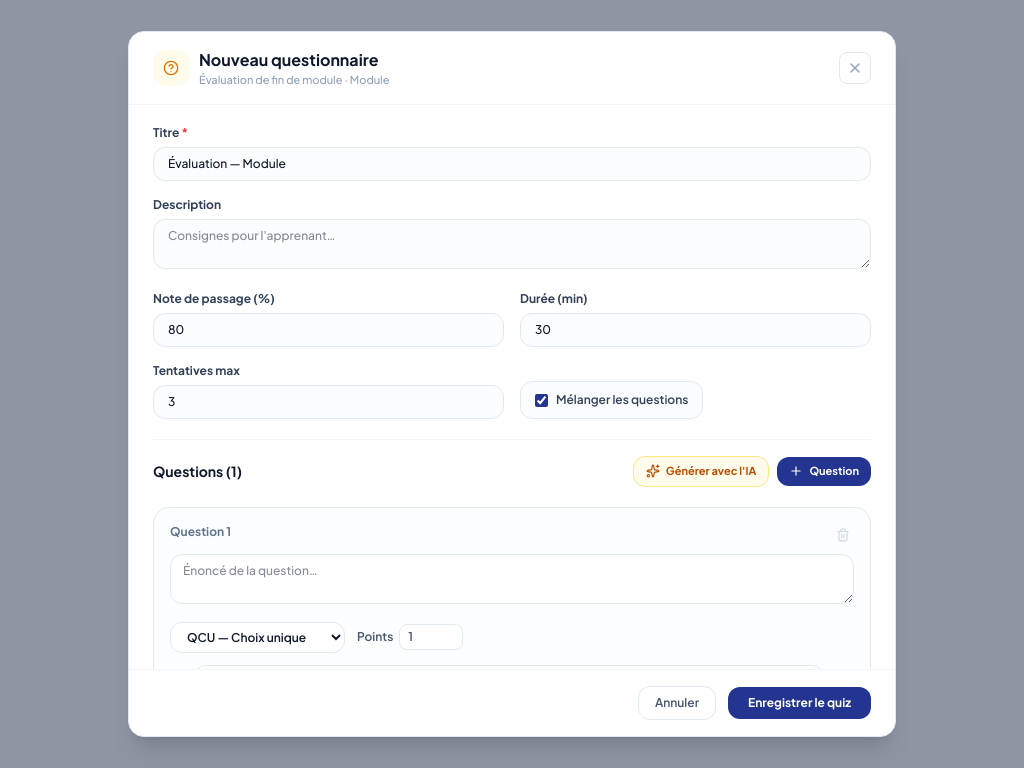
Test: QuizEditor › ajoute une question et une option
The image size is (1024, 768).
Step 1. Click the button "Question" → (824, 471), box [777,457,871,486]
(page scrolled)
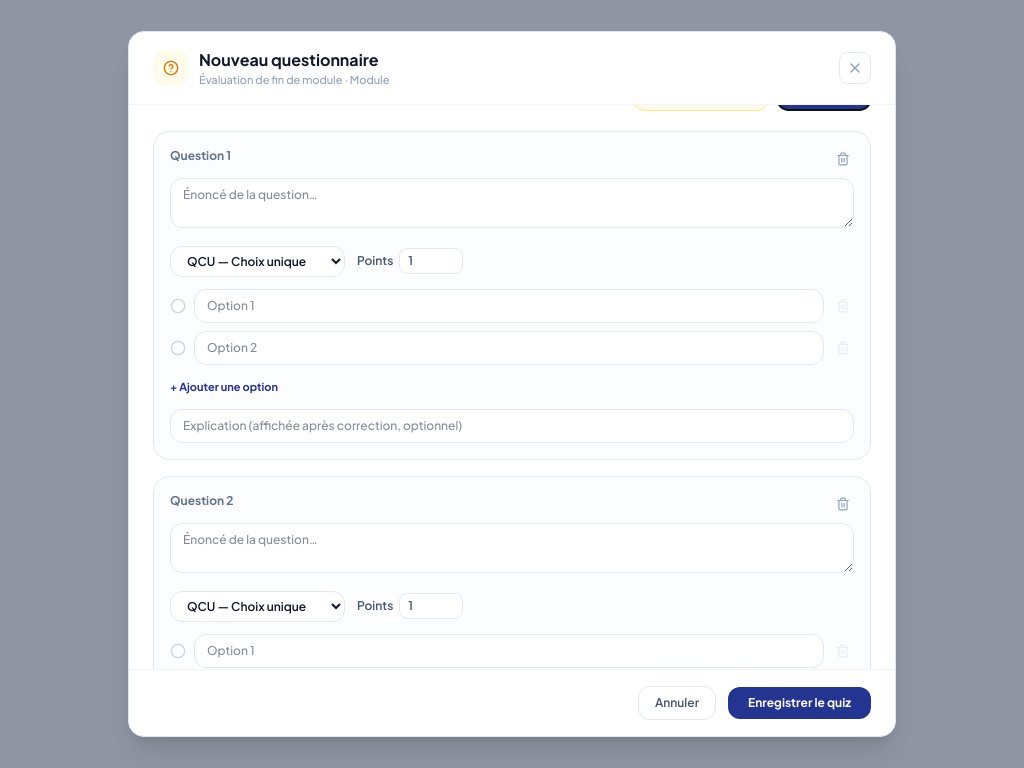
Check: the text "Question 2" is shown, box [170,493,233,509]
Step 2. Click the button "+ Ajouter une option" → (224, 387), box [170,379,278,395]
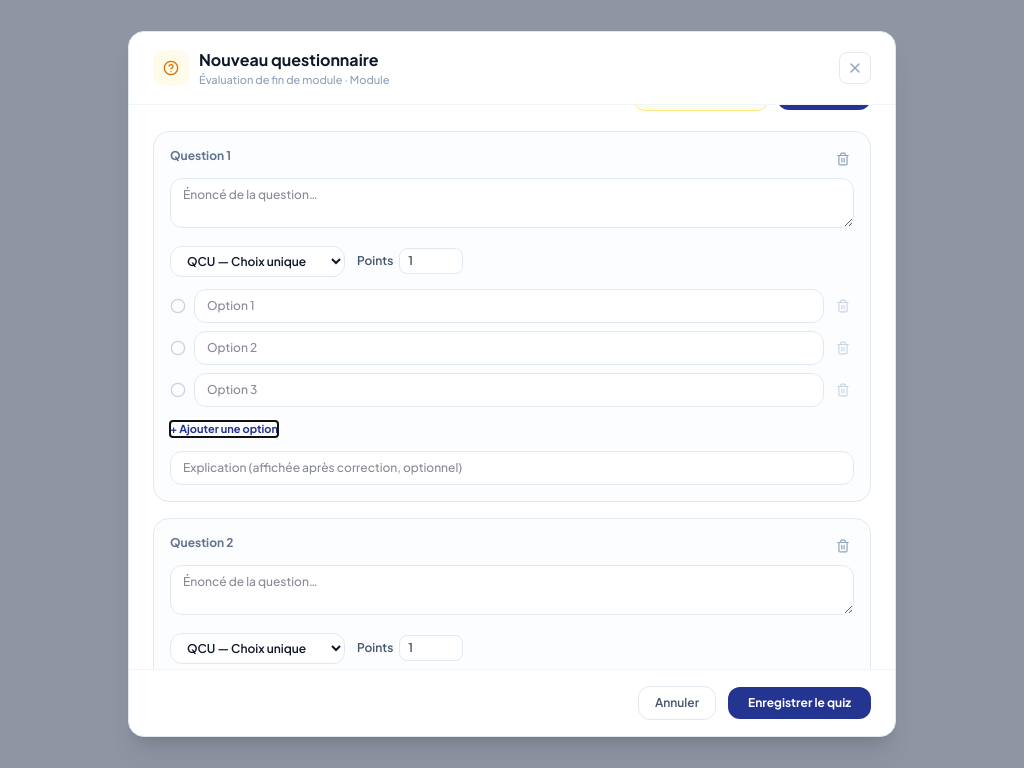
Check: the field with placeholder "Option 3" is shown, box [194,373,824,407]
